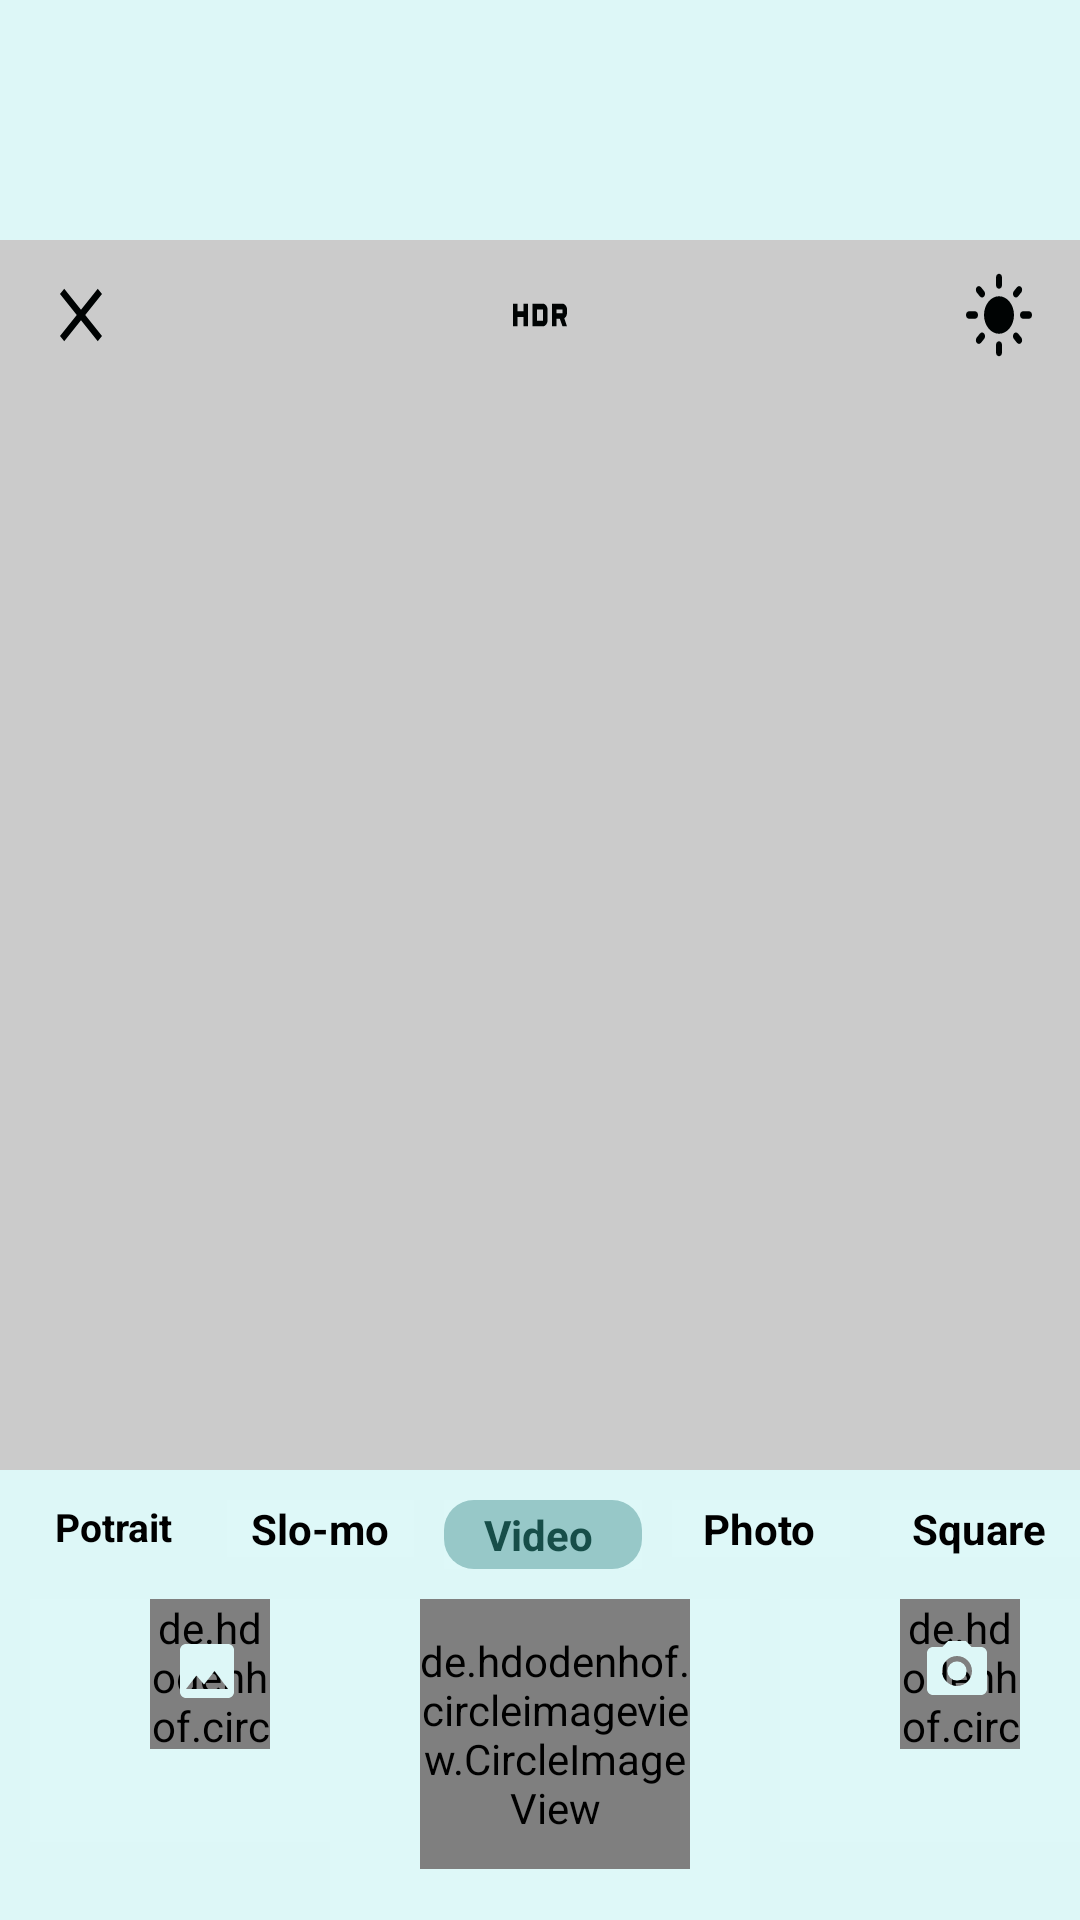

Icon bounding boxes for this 1080 × 1920 phone screenshot, format (x1, y1, x2, y2):
brightness: (966, 273, 1032, 357)
camera lightgreen: (921, 1635, 993, 1695)
close: (60, 289, 102, 341)
gallery: (171, 1635, 243, 1698)
